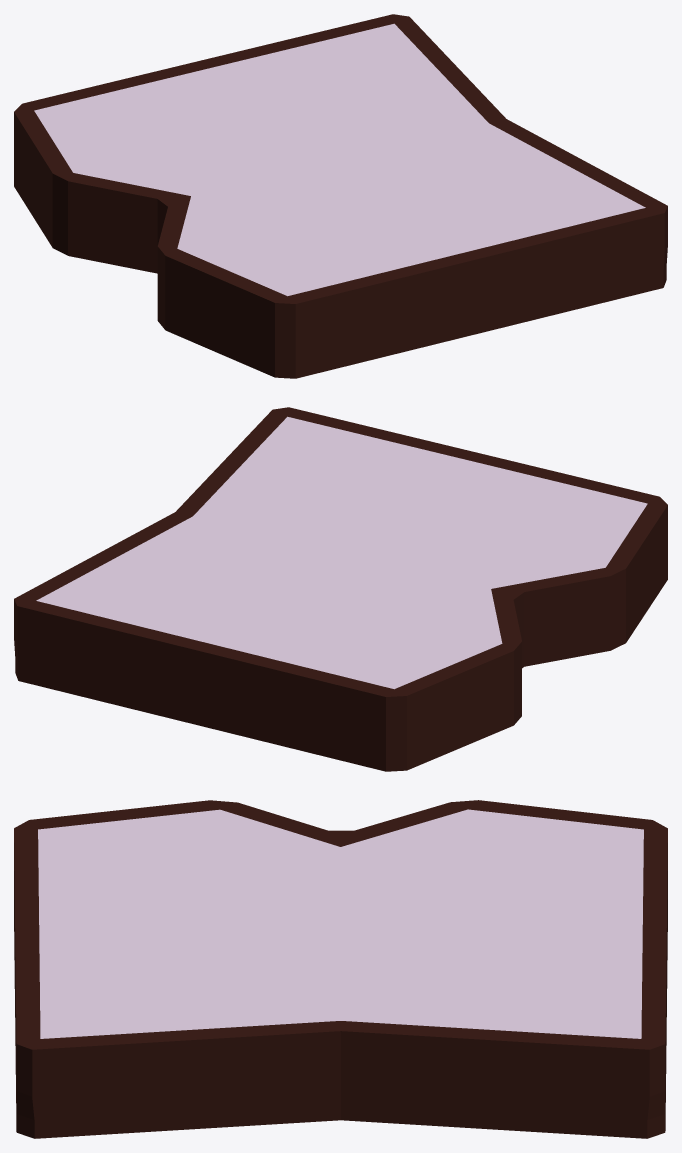
File: bread.glb
3 views of the same model, one above another, from view 1: azimuth 30°, elevation 25°; view 2: azimuth 150°, elevation 25°; view 3: azimuth 270°, elevation 25° (orthographic). The views are drawn at different scales.
Visible parts, largest first — view 1: Cube; view 2: Cube; view 3: Cube.
Boxes of the visible parts, <box> form: Cube: <box>14,14,667,378</box>; Cube: <box>14,407,667,771</box>; Cube: <box>14,800,667,1138</box>.
Size of the model in its own units: 1.82 by 0.3035 by 2.02.
